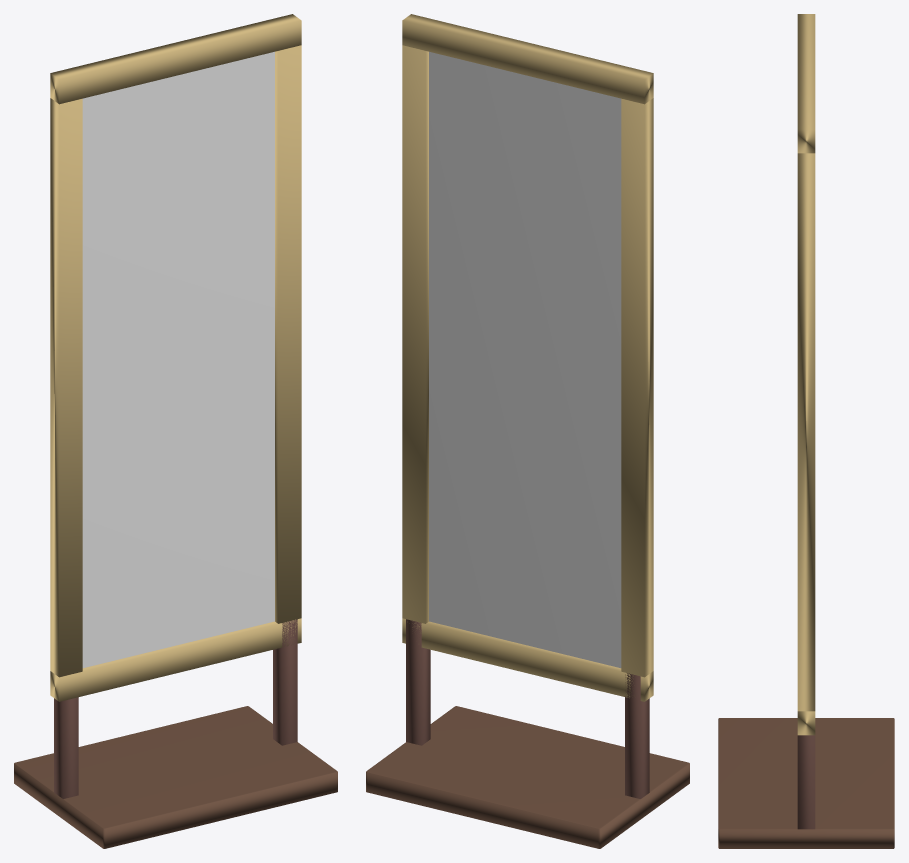
3 renders of one model, left to right at view 1: azimuth 30°, elevation 25°; view 2: azimuth 150°, elevation 25°; view 3: azimuth 270°, elevation 25°, orthographic. The views are drawn at different scales.
Size of the model in its own units: 0.62 by 1.81 by 0.4.
